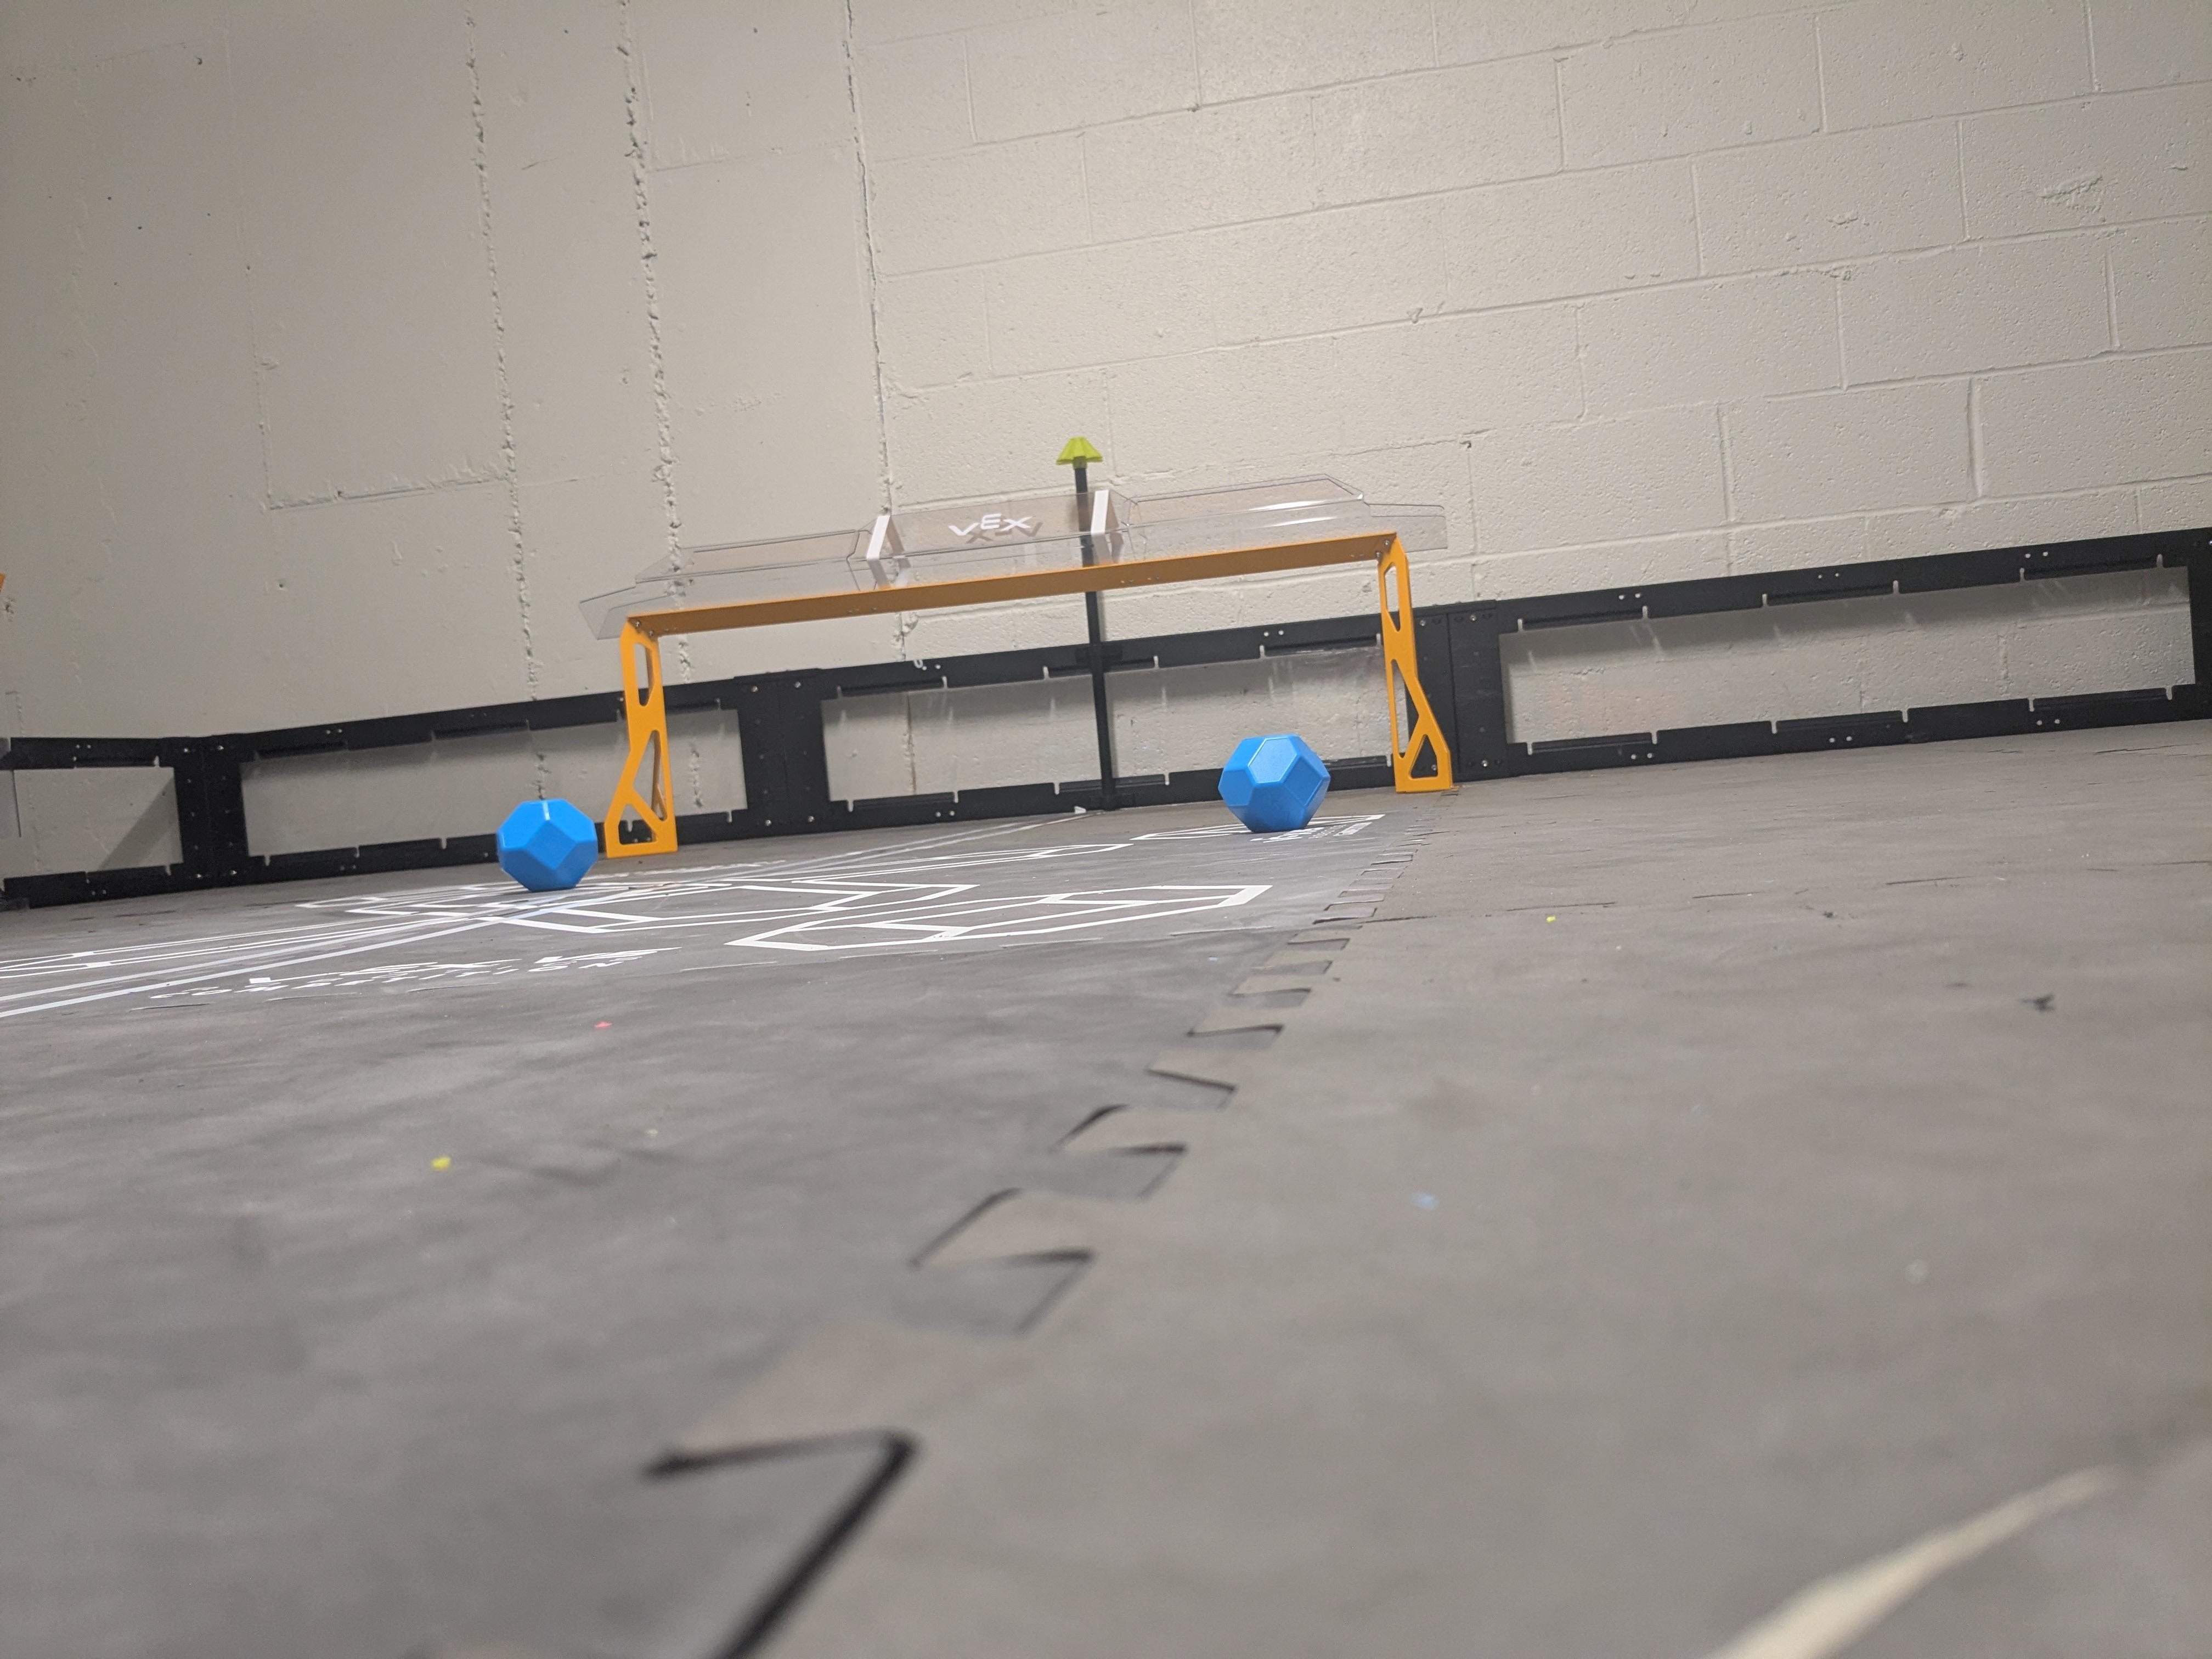Vex-Pieces-BLUE: (1219, 735, 1327, 826), (502, 800, 601, 889)
